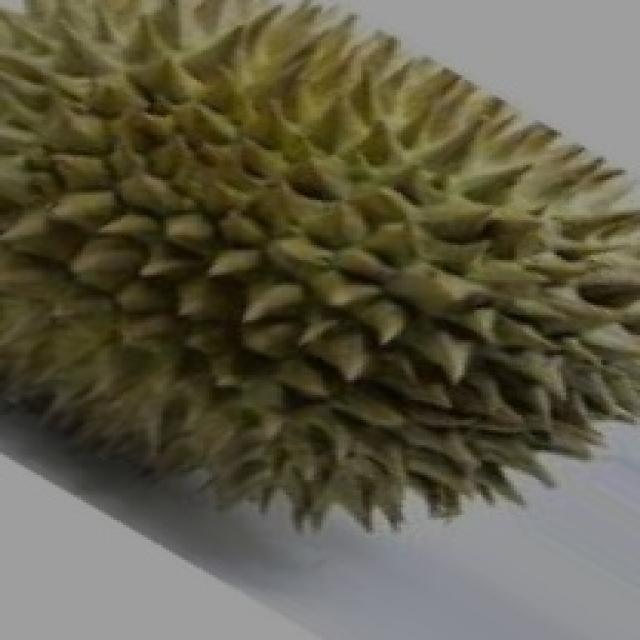fruit: (249, 225, 637, 603), (0, 215, 357, 607)
